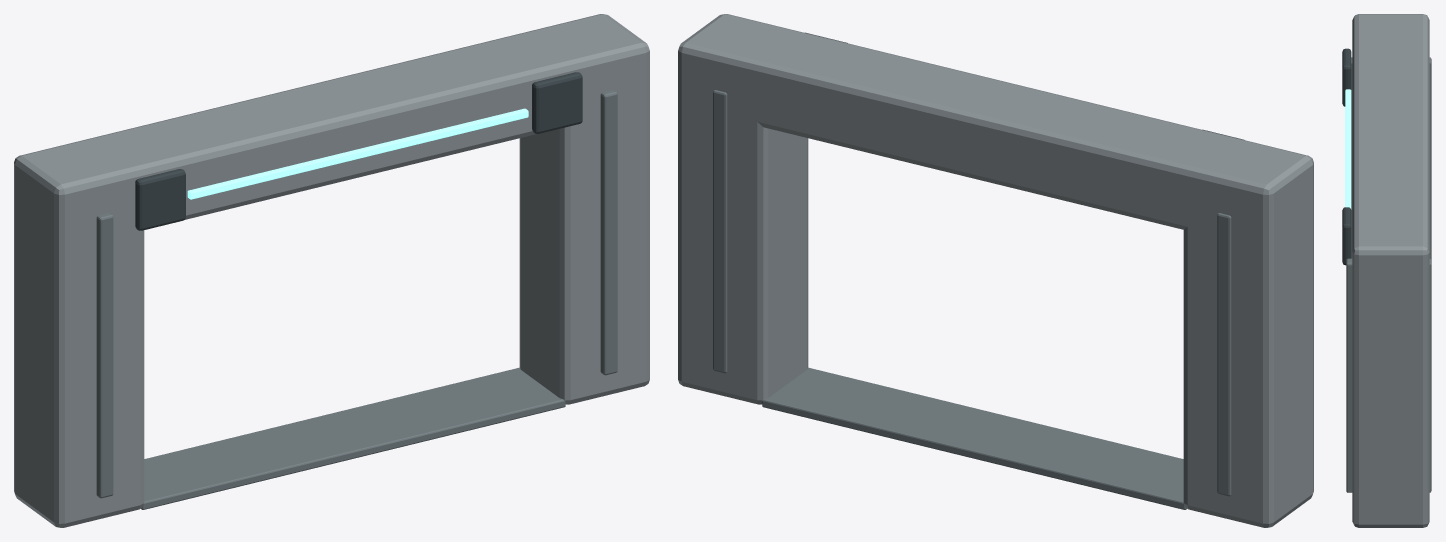
The model's file is EmbassyPortal_A.fbx.
The picture shows the model from 3 angles, left to right: view 1: azimuth 30°, elevation 25°; view 2: azimuth 150°, elevation 25°; view 3: azimuth 270°, elevation 25°; orthographic projection. The views are drawn at different scales.
Visible parts, largest first — view 1: Portal Header, Portal Left Pier, Portal Right Pier, Portal Threshold, Portal Left Inlay, Portal Right Inlay, Portal Light, Portal Crest, Portal Crest.001; view 2: Portal Header, Portal Left Pier, Portal Right Pier, Portal Threshold, Portal Left Inlay, Portal Right Inlay; view 3: Portal Header, Portal Right Pier, Portal Right Inlay, Portal Left Inlay, Portal Light, Portal Crest.001, Portal Crest.
Part boxes in pixels (x1,y1,x2,y2): Portal Header: (14, 14, 649, 245); Portal Left Pier: (14, 167, 144, 527); Portal Right Pier: (519, 54, 649, 404); Portal Threshold: (141, 367, 565, 509); Portal Left Inlay: (96, 213, 113, 498); Portal Right Inlay: (600, 90, 617, 375); Portal Light: (187, 108, 528, 199); Portal Crest: (135, 169, 185, 230); Portal Crest.001: (532, 72, 582, 133); Portal Header: (678, 14, 1313, 245); Portal Left Pier: (1183, 168, 1313, 527); Portal Right Pier: (678, 57, 808, 404); Portal Threshold: (762, 367, 1186, 509); Portal Left Inlay: (1217, 213, 1231, 496); Portal Right Inlay: (713, 90, 727, 373); Portal Header: (1352, 14, 1429, 296); Portal Right Pier: (1352, 254, 1429, 527); Portal Right Inlay: (1346, 258, 1431, 492); Portal Left Inlay: (1351, 57, 1431, 259); Portal Light: (1345, 89, 1351, 209); Portal Crest.001: (1342, 207, 1351, 265); Portal Crest: (1342, 48, 1351, 106).
Size of the model in its own units: 7.65 by 4.22 by 1.21.
